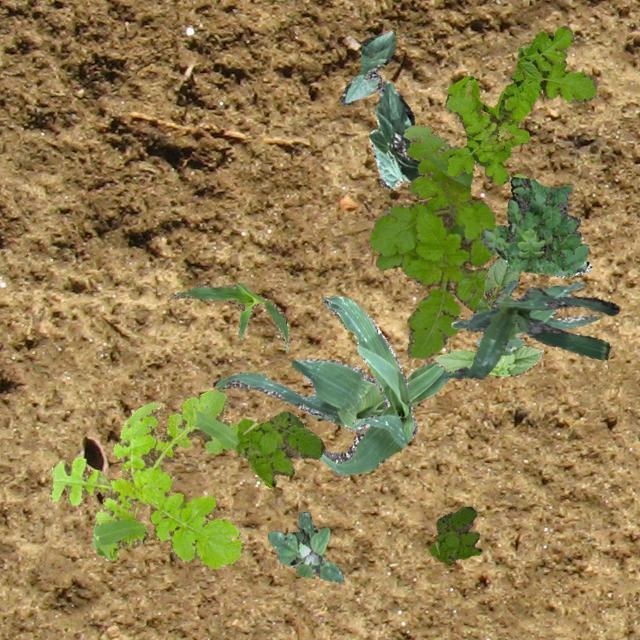crop: (318, 296, 417, 474), (213, 358, 452, 431), (448, 286, 618, 378), (450, 278, 600, 354), (170, 282, 288, 352), (368, 80, 420, 188), (340, 30, 394, 104), (434, 344, 544, 376), (472, 254, 518, 314), (554, 260, 590, 276)
weed: (48, 390, 242, 568), (366, 124, 496, 358), (444, 24, 596, 184), (480, 172, 588, 274), (234, 410, 324, 488), (266, 511, 344, 582), (428, 506, 481, 562)
